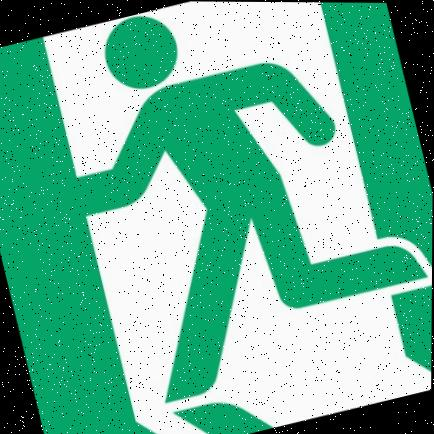emergency_exit: (0, 1, 433, 434)
